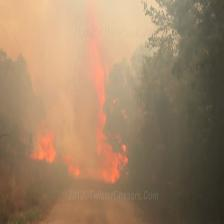fire: (15, 56, 144, 193)
smoke: (0, 0, 189, 99)
